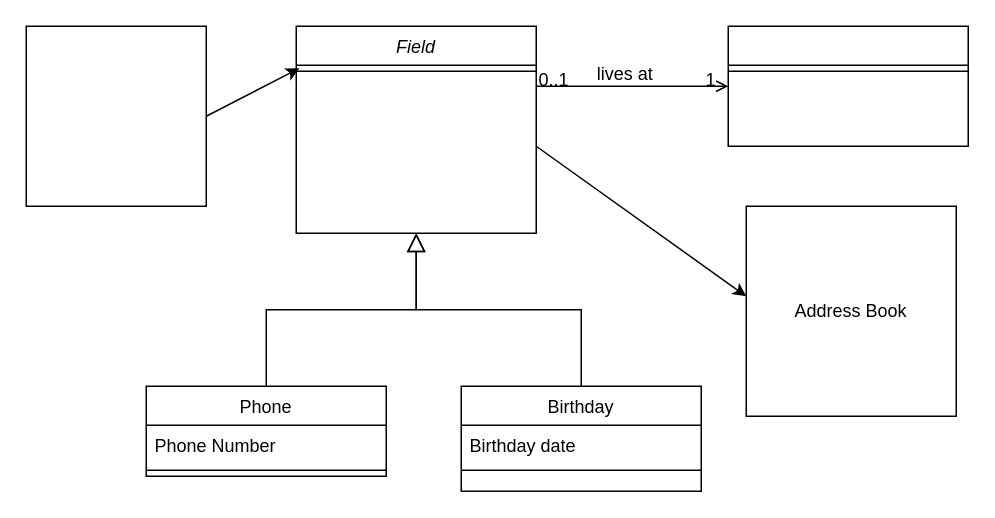
Some shapes in this 995 by 518 pixel diagram are drawn without their labels. Here are the shapes that lost their labels. From the top down, the centre of each, then its label:
At point 847,85: "Record".
At point 115,115: "Name".
